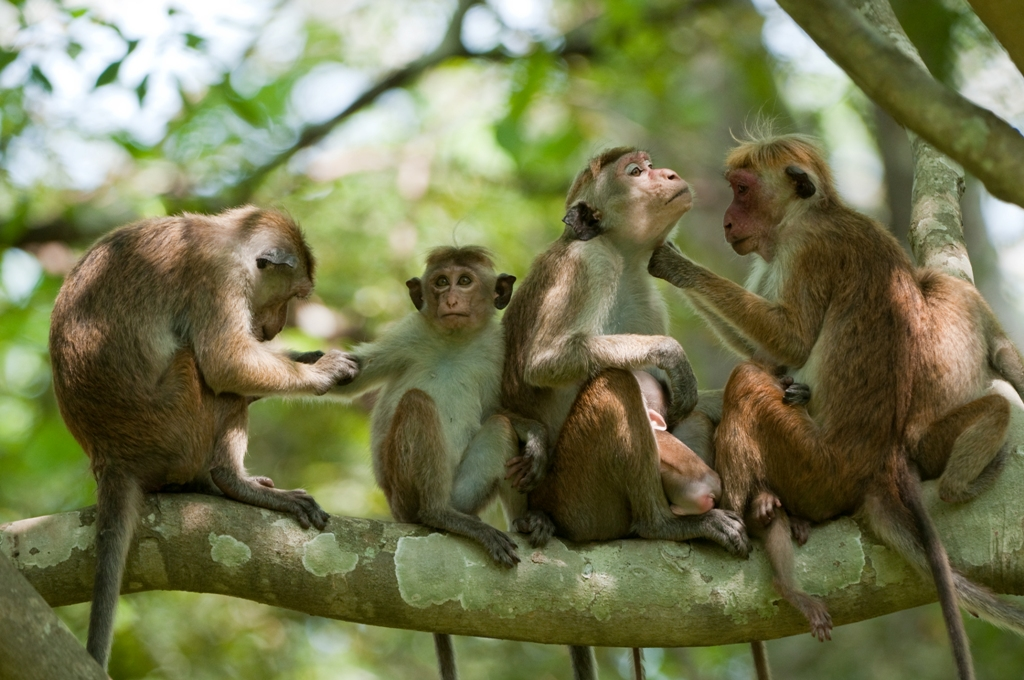Monkey: (35, 186, 344, 526), (705, 116, 930, 551), (505, 126, 710, 554), (366, 241, 529, 538)
